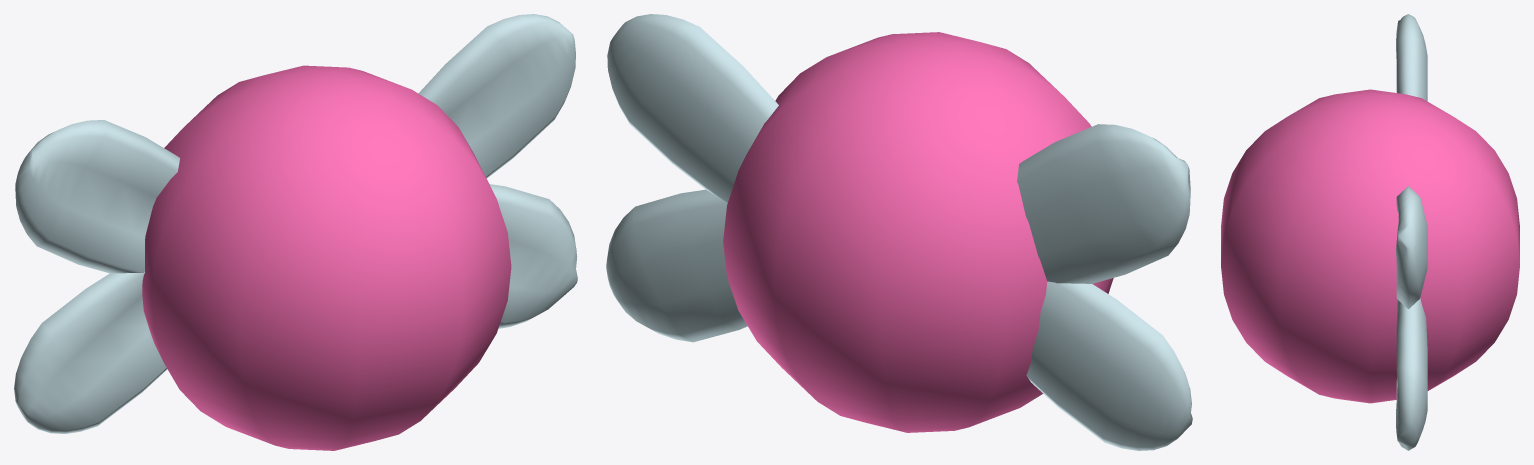
Rendered from Fairy NPC.fbx.
The picture shows the model from 3 angles, left to right: view 1: azimuth 30°, elevation 25°; view 2: azimuth 150°, elevation 25°; view 3: azimuth 270°, elevation 25°; orthographic projection. The views are drawn at different scales.
Visible parts, largest first — view 1: Sphere; view 2: Sphere; view 3: Sphere.
Part boxes in pixels (<box>): Sphere: <box>14,14,577,450</box>; Sphere: <box>606,14,1192,450</box>; Sphere: <box>1221,14,1519,450</box>.
Size of the model in its own units: 212 by 127 by 120.
